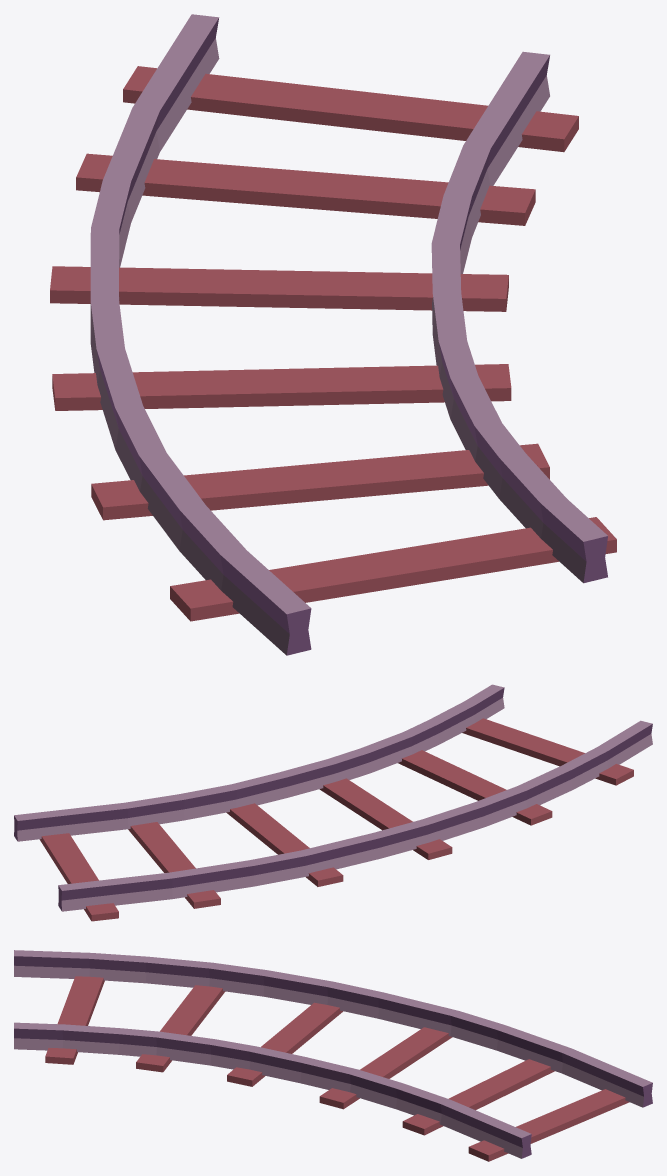
File: rail_curve.obj
3 renders of one model, top to bottom at view 1: azimuth 30°, elevation 25°; view 2: azimuth 150°, elevation 25°; view 3: azimuth 270°, elevation 25°, orthographic. The views are drawn at different scales.
Visible parts, largest first — view 1: rail_curve; view 2: rail_curve; view 3: rail_curve.
Boxes of the visible parts, x1,y1,x2,y2 form: rail_curve: [50, 14, 616, 655]; rail_curve: [14, 684, 652, 921]; rail_curve: [14, 950, 652, 1161].
Bounding box in the file's own units: 4.04 × 0.238 × 5.59.
1 material, 1 textured.
